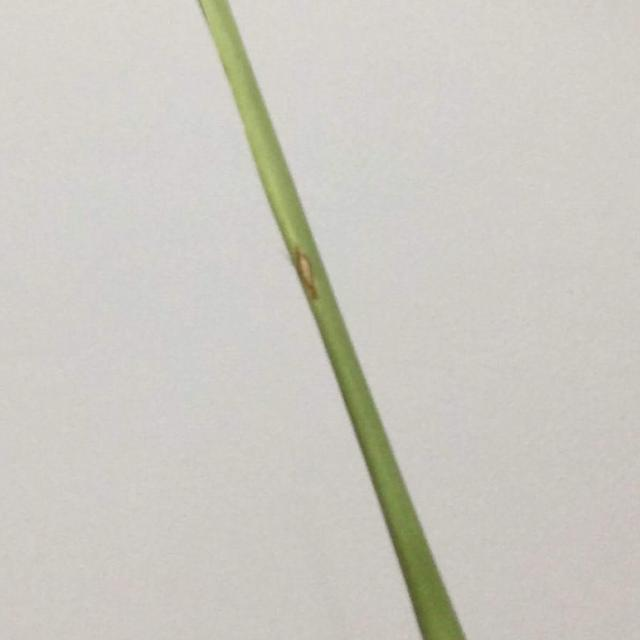Blast: (298, 254, 320, 296)
